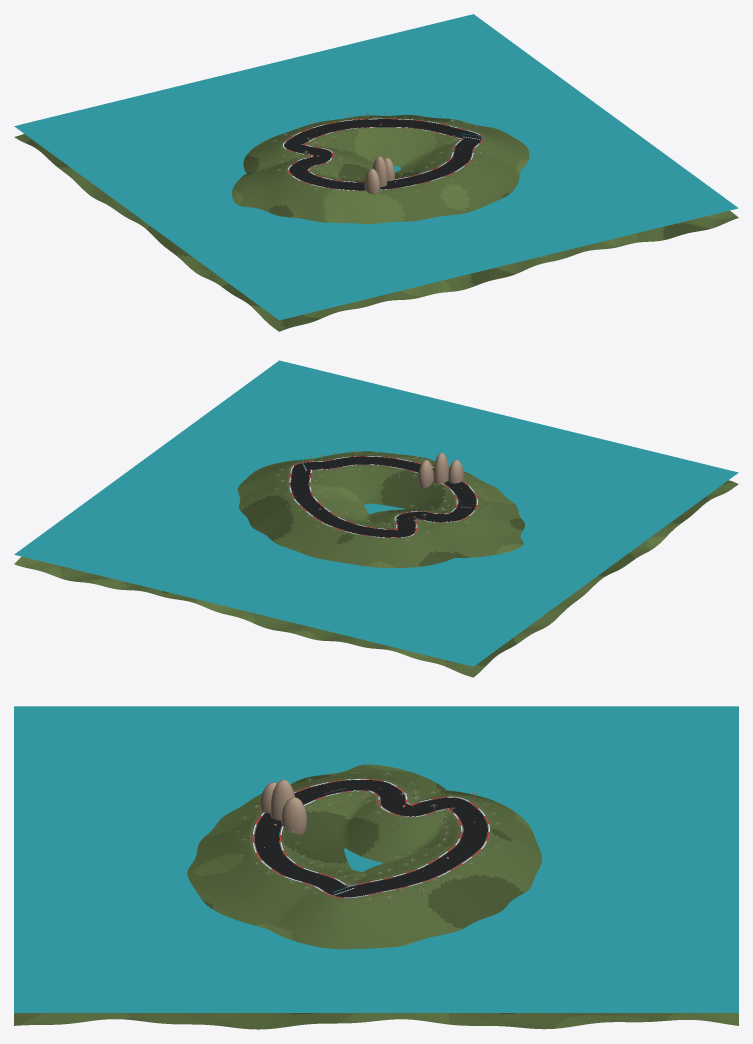
Rendered from coral_bay.glb.
3 views of the same model, one above another, from view 1: azimuth 30°, elevation 25°; view 2: azimuth 150°, elevation 25°; view 3: azimuth 270°, elevation 25° (orthographic). The views are drawn at different scales.
Visible parts, largest first — view 1: coral_bay - Blender Mountain Course.011 - Combined Blender G; view 2: coral_bay - Blender Mountain Course.011 - Combined Blender G; view 3: coral_bay - Blender Mountain Course.011 - Combined Blender G.
Part boxes in pixels (x1=…): coral_bay - Blender Mountain Course.011 - Combined Blender G: x1=14, y1=14, x2=738, y2=331; coral_bay - Blender Mountain Course.011 - Combined Blender G: x1=14, y1=360, x2=738, y2=677; coral_bay - Blender Mountain Course.011 - Combined Blender G: x1=14, y1=706, x2=738, y2=1029.
Bounding box in the file's own units: 723 × 88.07 × 723.
26 materials, 5 textured.
